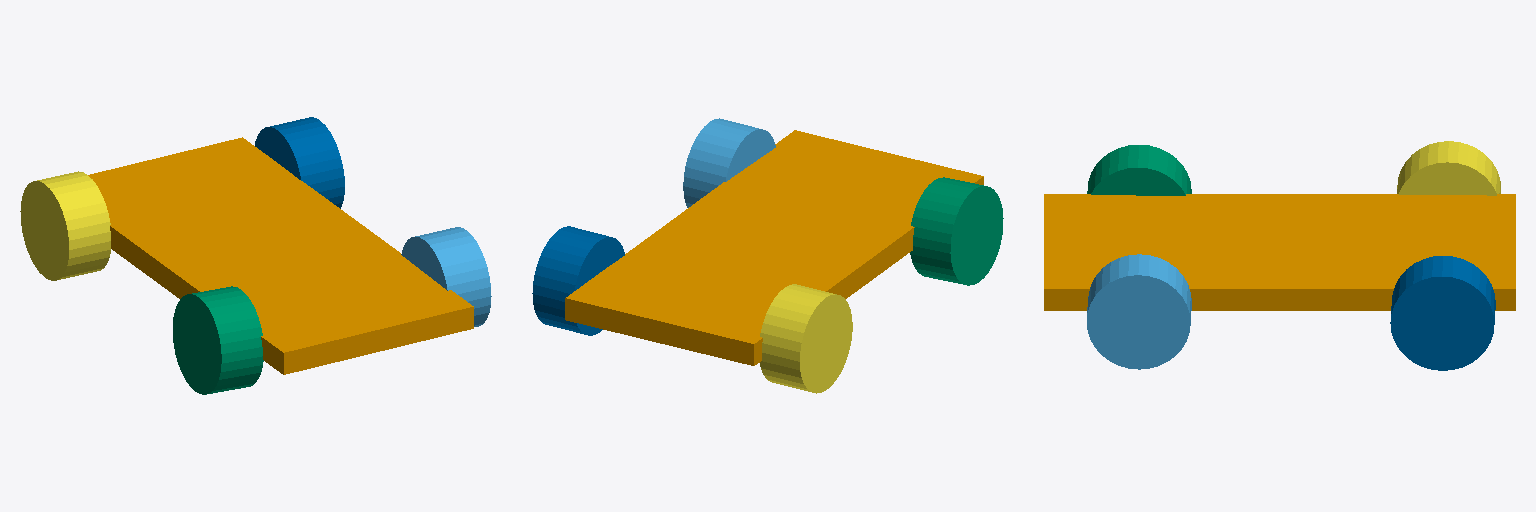
URDF robot description (bfl_1):
<?xml version="1.0" ?>
<robot name="bfl_1">
  <joint name="bfl_1__link_0_JOINT_0" type="revolute">
    <parent link="bfl_1__link_0"/>
    <child link="bfl_1__link_1"/>
    <origin xyz="5.4971e-01 -6.7342e-01  4.4000e-04" rpy="-1.57019 -0.00661  1.54546"/>
    <axis xyz="0 0 1"/>
    <limit lower="-1.79769e+308" upper="1.79769e+308" effort="-1.0" velocity="-1.0"/>
  </joint>
  <joint name="bfl_1__link_0_JOINT_1" type="revolute">
    <parent link="bfl_1__link_0"/>
    <child link="bfl_1__link_1_clone"/>
    <origin xyz="-0.6462  -0.6747  -0.01576" rpy="1.62046 -0.00611  1.53547"/>
    <axis xyz="0 0 1"/>
    <limit lower="-1.79769e+308" upper="1.79769e+308" effort="-1.0" velocity="-1.0"/>
  </joint>
  <joint name="bfl_1__link_0_JOINT_2" type="revolute">
    <parent link="bfl_1__link_0"/>
    <child link="bfl_1__link_1_clone_0"/>
    <origin xyz="-6.4719e-01  7.0877e-01  4.4000e-04" rpy="1.5803  -0.00661  1.54546"/>
    <axis xyz="0 0 1"/>
    <limit lower="-1.79769e+308" upper="1.79769e+308" effort="-1.0" velocity="-1.0"/>
  </joint>
  <joint name="bfl_1__link_0_JOINT_3" type="revolute">
    <parent link="bfl_1__link_0"/>
    <child link="bfl_1__link_1_clone_1"/>
    <origin xyz="5.6365e-01 6.8420e-01 4.4000e-04" rpy="-1.57019 -0.00661  1.54546"/>
    <axis xyz="1 0 0"/>
    <limit lower="-1.79769e+308" upper="1.79769e+308" effort="-1.0" velocity="-1.0"/>
  </joint>
  <link name="bfl_1__link_0">
    <inertial>
      <mass value="0.234905"/>
      <origin xyz="0 0 0" rpy="0 0 0"/>
      <inertia ixx="0.086962" ixy="0" ixz="0" iyy="0.0198193" iyz="0" izz="0.106294"/>
    </inertial>
    <collision name="bfl_1__collision">
      <origin xyz="-0.04757 -0.04486  0.01443" rpy="0 0 0"/>
      <geometry>
        <box size="1 2.10474 0.111615"/>
      </geometry>
    </collision>
    <visual name="bfl_1__visual">
      <origin xyz="-0.04757 -0.04486  0.01443" rpy="0 0 0"/>
      <geometry>
        <box size="1 2.10474 0.111615"/>
      </geometry>
    </visual>
  </link>
  <link name="bfl_1__link_1">
    <inertial>
      <mass value="0.0479168"/>
      <origin xyz="0 0 0" rpy="0 0 0"/>
      <inertia ixx="0.000844516" ixy="0" ixz="0" iyy="0.000844516" iyz="0" izz="0.00129966"/>
    </inertial>
    <collision name="bfl_1__collision">
      <origin xyz="0 0 0" rpy="0 0 0"/>
      <geometry>
        <cylinder radius="0.232909" length="0.220806"/>
      </geometry>
    </collision>
    <visual name="bfl_1__visual">
      <origin xyz="0 0 0" rpy="0 0 0"/>
      <geometry>
        <cylinder radius="0.232909" length="0.220806"/>
      </geometry>
    </visual>
  </link>
  <link name="bfl_1__link_1_clone">
    <inertial>
      <mass value="0.0479168"/>
      <origin xyz="0 0 0" rpy="0 0 0"/>
      <inertia ixx="0.000844516" ixy="0" ixz="0" iyy="0.000844516" iyz="0" izz="0.00129966"/>
    </inertial>
    <collision name="bfl_1__collision">
      <origin xyz="0 0 0" rpy="0   0.01 0"/>
      <geometry>
        <cylinder radius="0.232909" length="0.220806"/>
      </geometry>
    </collision>
    <visual name="bfl_1__visual">
      <origin xyz="0 0 0" rpy="0   0.01 0"/>
      <geometry>
        <cylinder radius="0.232909" length="0.220806"/>
      </geometry>
    </visual>
  </link>
  <link name="bfl_1__link_1_clone_0">
    <inertial>
      <mass value="0.0479168"/>
      <origin xyz="0 0 0" rpy="0 0 0"/>
      <inertia ixx="0.000844516" ixy="0" ixz="0" iyy="0.000844516" iyz="0" izz="0.00129966"/>
    </inertial>
    <collision name="bfl_1__collision">
      <origin xyz="0 0 0" rpy="0 0 0"/>
      <geometry>
        <cylinder radius="0.232909" length="0.220806"/>
      </geometry>
    </collision>
    <visual name="bfl_1__visual">
      <origin xyz="0 0 0" rpy="0 0 0"/>
      <geometry>
        <cylinder radius="0.232909" length="0.220806"/>
      </geometry>
    </visual>
  </link>
  <link name="bfl_1__link_1_clone_1">
    <inertial>
      <mass value="0.0479168"/>
      <origin xyz="0 0 0" rpy="0 0 0"/>
      <inertia ixx="0.000844516" ixy="0" ixz="0" iyy="0.000844516" iyz="0" izz="0.00129966"/>
    </inertial>
    <collision name="bfl_1__collision">
      <origin xyz="0 0 0" rpy="0 0 0"/>
      <geometry>
        <cylinder radius="0.232909" length="0.220806"/>
      </geometry>
    </collision>
    <visual name="bfl_1__visual">
      <origin xyz="0 0 0" rpy="0 0 0"/>
      <geometry>
        <cylinder radius="0.232909" length="0.220806"/>
      </geometry>
    </visual>
  </link>
</robot>

--- Facts derived from the render (not from the file) ---
The picture shows the robot from 3 angles, left to right: view 1: azimuth 30°, elevation 25°; view 2: azimuth 150°, elevation 25°; view 3: azimuth 270°, elevation 25°; orthographic projection.
Model bfl_1 with 5 links and 4 joints (4 revolute), rooted at bfl_1__link_0, posed all joints at 0.
Visible links, largest first — view 1: bfl_1__link_0, bfl_1__link_1_clone, bfl_1__link_1_clone_0, bfl_1__link_1, bfl_1__link_1_clone_1; view 2: bfl_1__link_0, bfl_1__link_1_clone, bfl_1__link_1_clone_0, bfl_1__link_1_clone_1, bfl_1__link_1; view 3: bfl_1__link_0, bfl_1__link_1_clone_1, bfl_1__link_1, bfl_1__link_1_clone_0, bfl_1__link_1_clone.
Link boxes in pixels (left/top/right/bottom): bfl_1__link_0: left=88, top=137, right=473, bottom=374; bfl_1__link_1_clone: left=173, top=286, right=263, bottom=394; bfl_1__link_1_clone_0: left=20, top=171, right=110, bottom=280; bfl_1__link_1: left=401, top=227, right=491, bottom=326; bfl_1__link_1_clone_1: left=255, top=117, right=344, bottom=208; bfl_1__link_0: left=565, top=130, right=983, bottom=365; bfl_1__link_1_clone: left=910, top=177, right=1003, bottom=285; bfl_1__link_1_clone_0: left=760, top=284, right=852, bottom=393; bfl_1__link_1_clone_1: left=532, top=226, right=624, bottom=335; bfl_1__link_1: left=683, top=118, right=775, bottom=207; bfl_1__link_0: left=1044, top=194, right=1515, bottom=310; bfl_1__link_1_clone_1: left=1390, top=256, right=1495, bottom=370; bfl_1__link_1: left=1087, top=254, right=1191, bottom=369; bfl_1__link_1_clone_0: left=1397, top=141, right=1500, bottom=195; bfl_1__link_1_clone: left=1087, top=145, right=1191, bottom=195.
Size in the robot's own frame: 1.45 by 2.1 by 0.4882 metres.
Geometry: primitives only (box / cylinder / sphere), no mesh files.